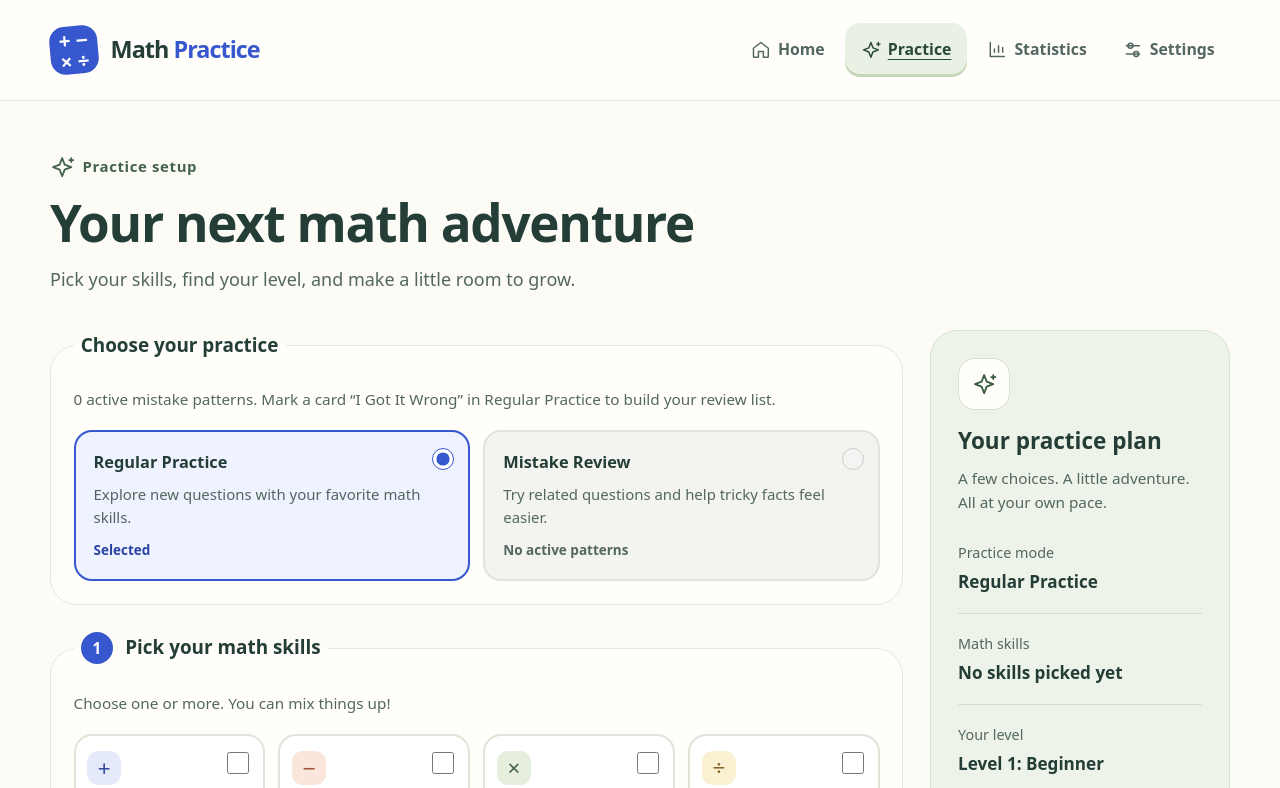
persists results only after a self-report, never on selection or reveal
The width and height of the screenshot is (1280, 788).
Click the checkbox labelled "Addition" at coordinates (238, 763), box 227,752 -> 249,774
(page scrolled)
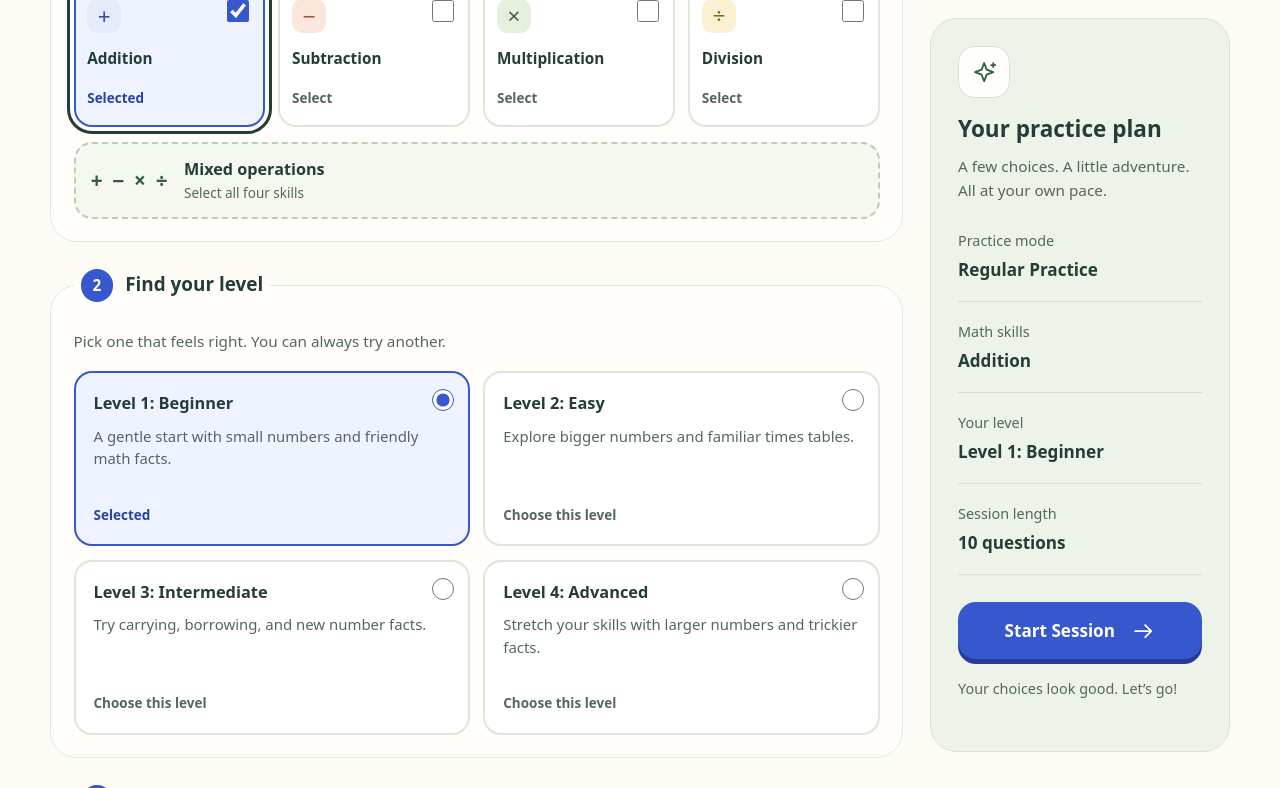
Click the radio button labelled "Level 1: Beginner" at coordinates (443, 400), box 432,389 -> 454,411
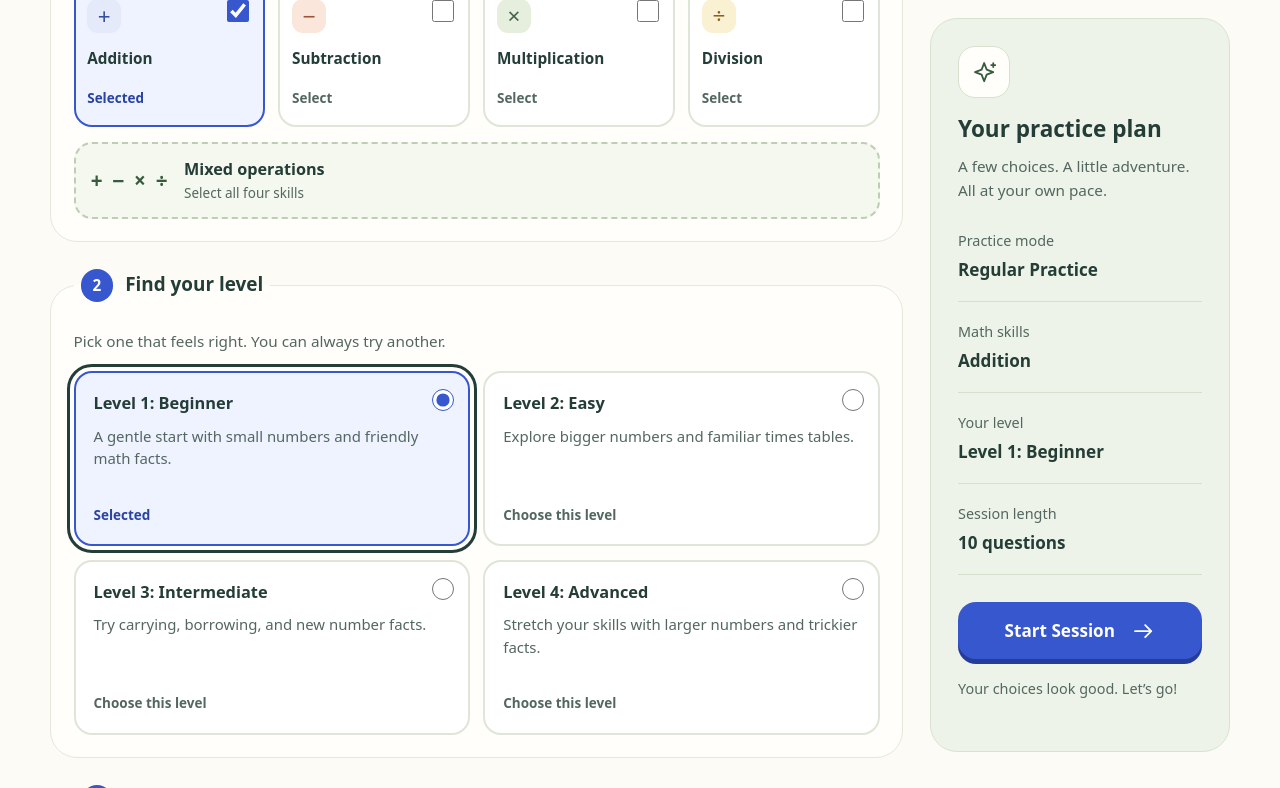
Click the button "Start Session" at coordinates (1080, 631), box 958,602 -> 1202,660
(page scrolled)
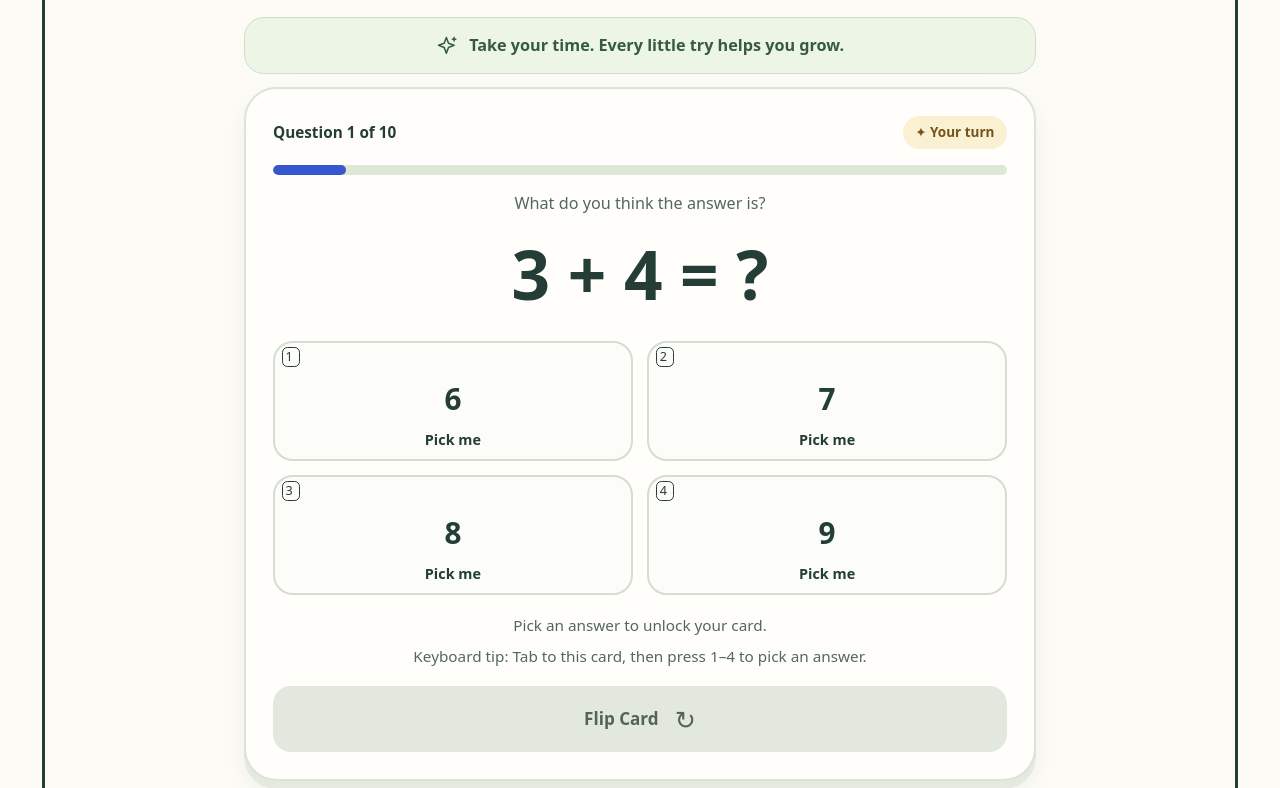
Check: the text "Question 1 of 10" is shown, box 273,120 -> 396,145
Click the button named "Answer 6" at coordinates (453, 401), box 273,341 -> 633,461
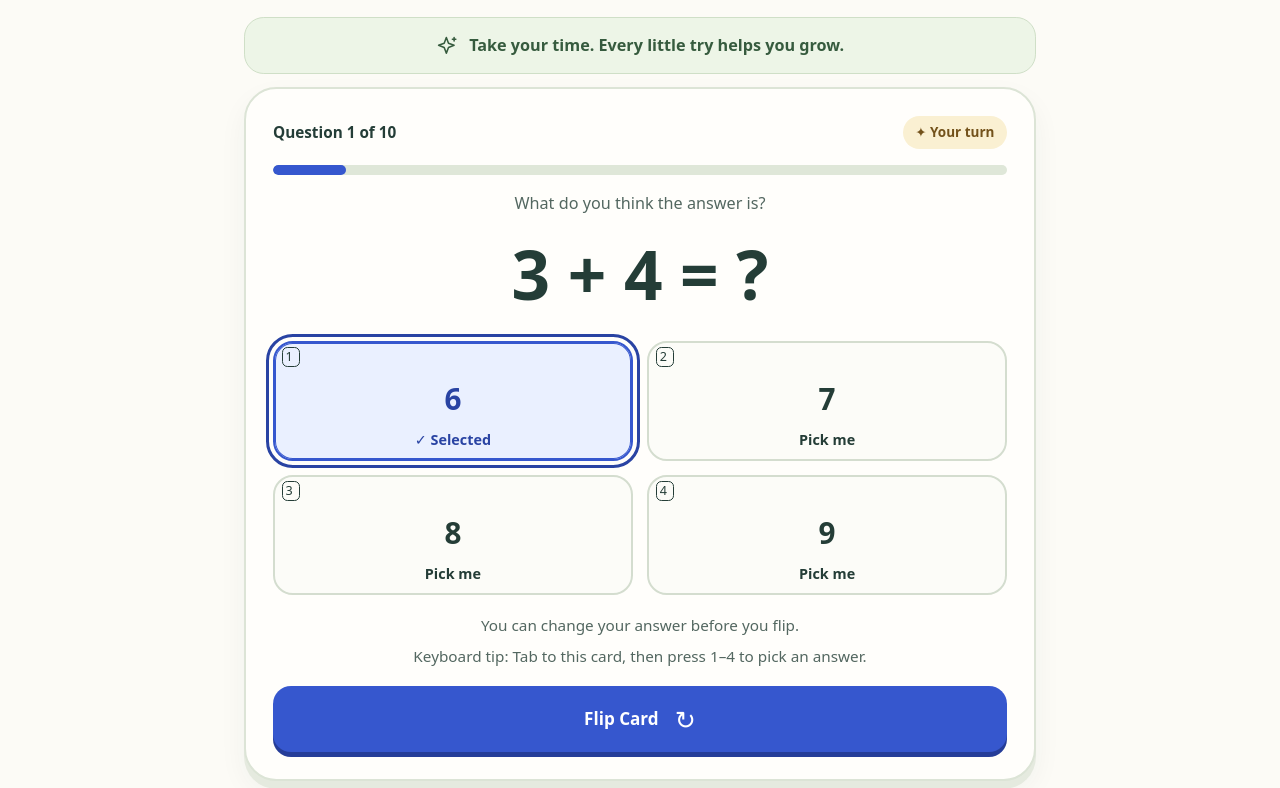
Click the button "Flip Card ↻" at coordinates (640, 719), box 273,686 -> 1007,752
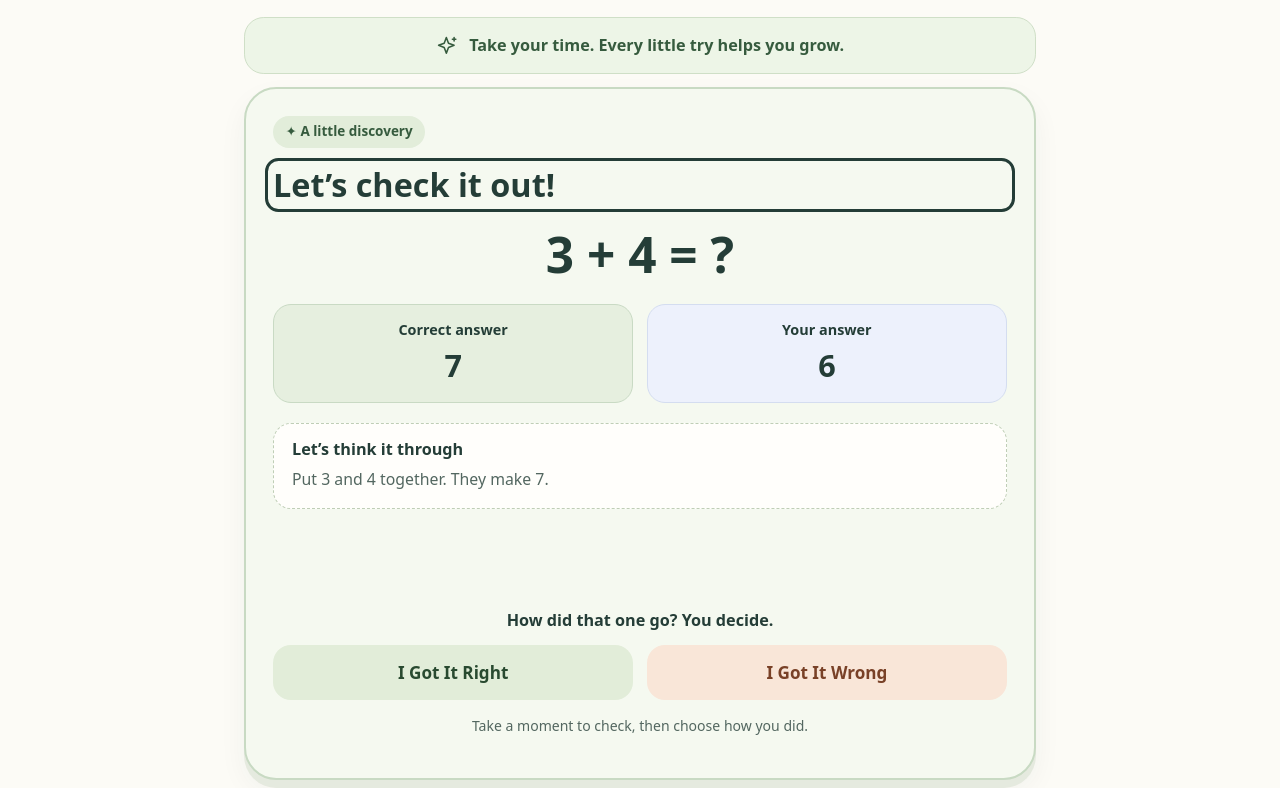
Check: the message named "Practice encouragement" shows "Take your time.", box 469,34 -> 844,56
Click the button "I Got It Right" at coordinates (453, 673), box 273,646 -> 633,701
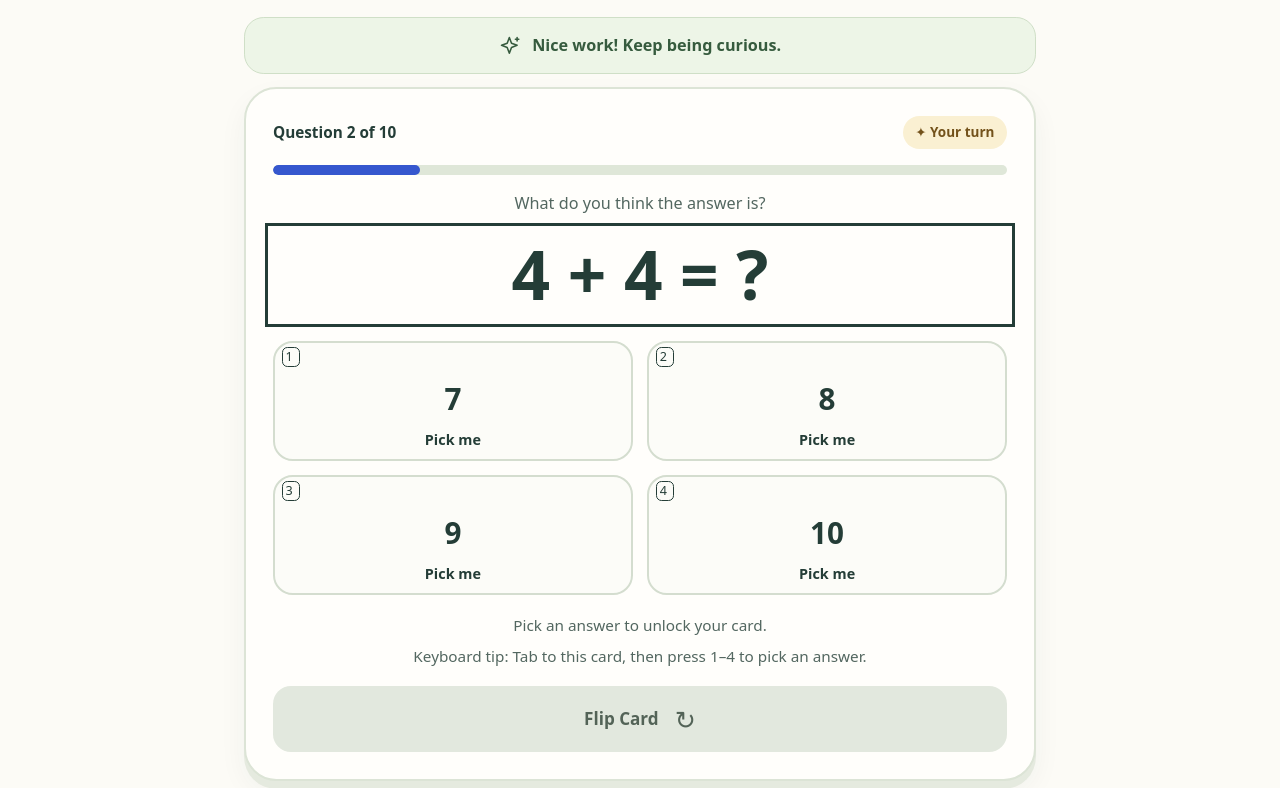
Check: the button "Flip Card ↻" is disabled, box 273,686 -> 1007,752
Check: the text "Nice work! Keep being curious." is shown, box 532,33 -> 781,58
Check: the text "Question 2 of 10" is shown, box 273,120 -> 396,145
